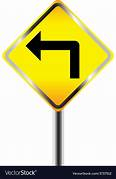left: (1, 1, 114, 112)
